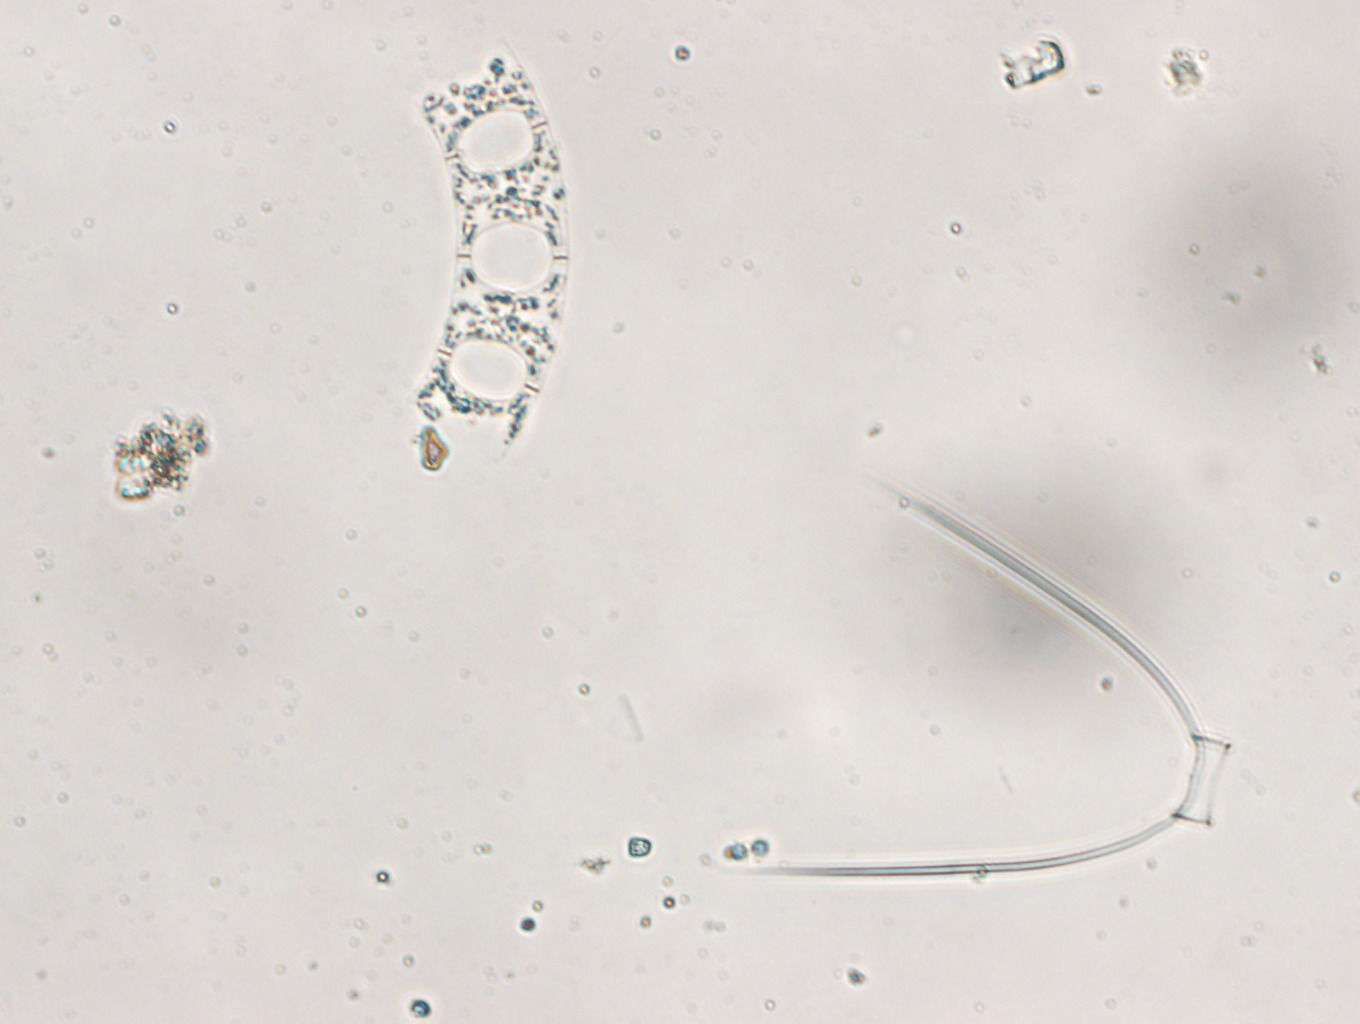chaetoceros: (753, 472, 1230, 881)
eucampia: (413, 37, 573, 463)
